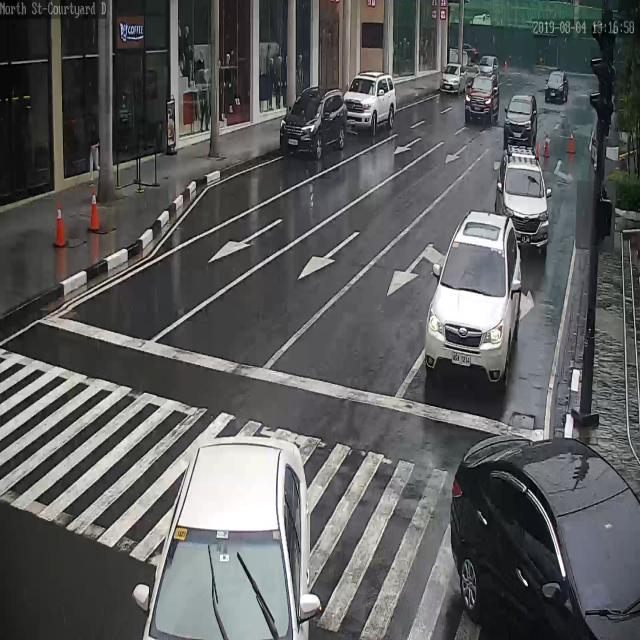car: (451, 434, 640, 640), (142, 433, 311, 640), (426, 212, 523, 385), (494, 141, 549, 251), (279, 85, 348, 157), (343, 71, 395, 135), (503, 93, 537, 145), (465, 74, 501, 122), (439, 63, 467, 95), (545, 70, 569, 103), (477, 54, 499, 81)
